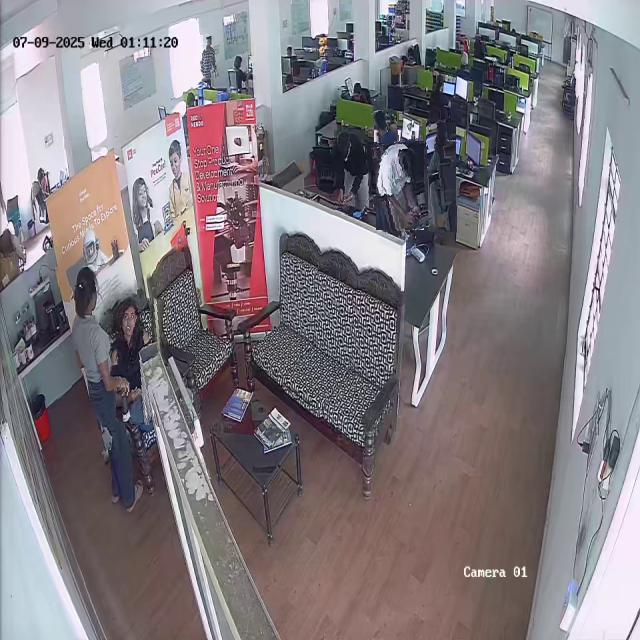person: (56, 266, 114, 451), (108, 295, 162, 424), (374, 140, 427, 231), (324, 129, 372, 215), (427, 122, 457, 232), (195, 35, 221, 87), (373, 109, 398, 145)
